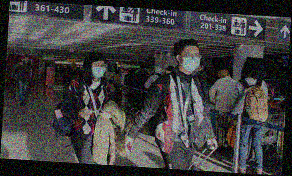with_mask: (181, 51, 201, 72), (91, 62, 106, 79)
without_mask: (25, 58, 30, 62)
